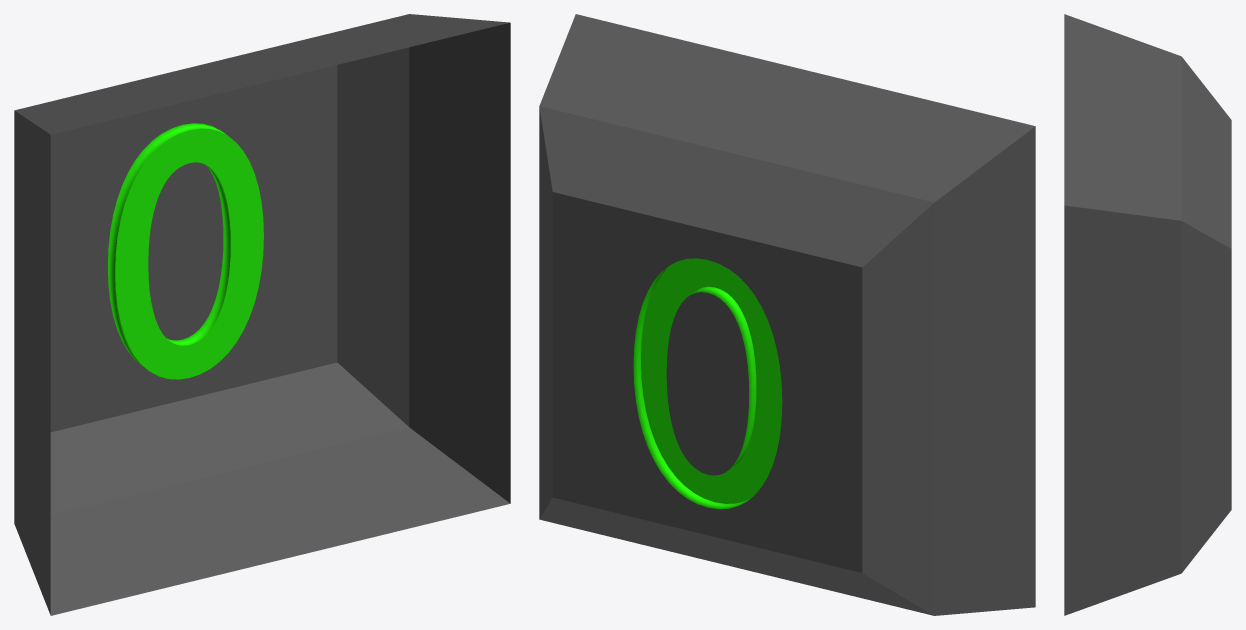
3 renders of one model, left to right at view 1: azimuth 30°, elevation 25°; view 2: azimuth 150°, elevation 25°; view 3: azimuth 270°, elevation 25°, orthographic. The views are drawn at different scales.
Parts seen in each view (by area): view 1: key 2.013; view 2: key 2.013; view 3: key 2.013.
Part boxes in pixels (x1,y1,x2,y2): key 2.013: (14,14,510,615); key 2.013: (539,14,1035,615); key 2.013: (1064,14,1231,615).
Bounding box in the file's own units: 4.81 × 4.81 × 1.78.
